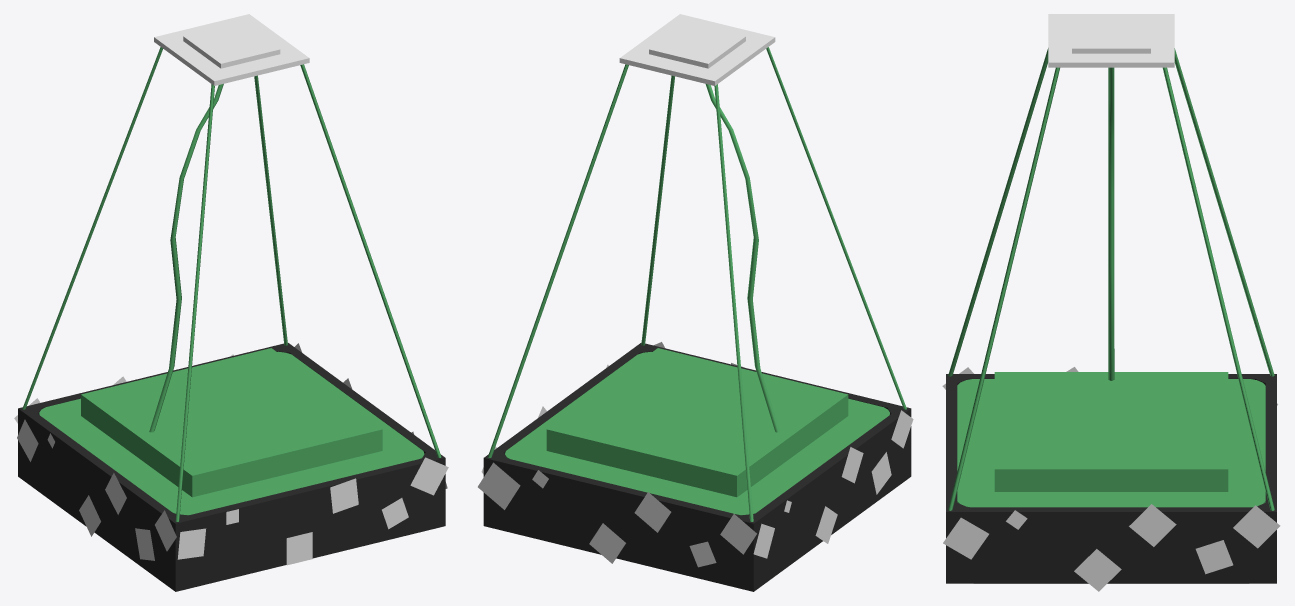
Rendered from LightTopDesign04.FBX.
The picture shows the model from 3 angles, left to right: view 1: azimuth 30°, elevation 25°; view 2: azimuth 150°, elevation 25°; view 3: azimuth 270°, elevation 25°; orthographic projection. The views are drawn at different scales.
Parts seen in each view (by area): view 1: LightTopDesign04; view 2: LightTopDesign04; view 3: LightTopDesign04.
Part boxes in pixels (left/top/right/bottom): LightTopDesign04: left=14, top=14, right=448, bottom=591; LightTopDesign04: left=478, top=14, right=913, bottom=591; LightTopDesign04: left=942, top=14, right=1280, bottom=591.
Size of the model in its own units: 43.01 by 42.9 by 68.47.
